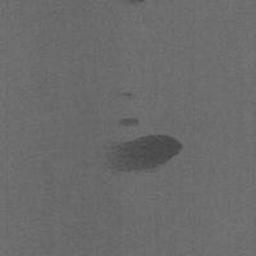Oil spot: (100, 133, 184, 177), (114, 116, 140, 128), (125, 0, 146, 6), (120, 91, 133, 97)
